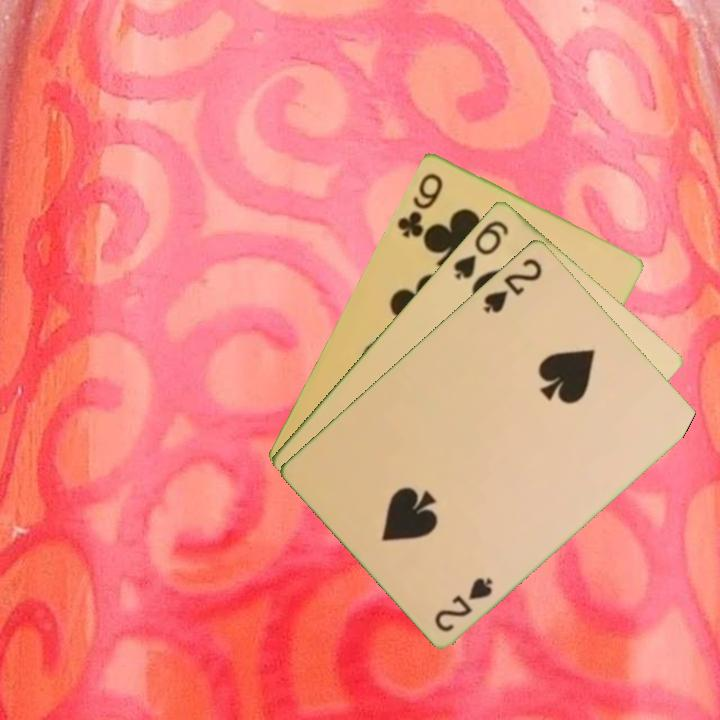2s: (479, 254, 546, 316), (430, 573, 496, 635)
6s: (449, 216, 512, 282)
9c: (393, 169, 446, 241)
